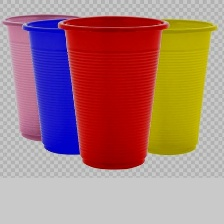glass: (54, 12, 172, 173), (124, 17, 219, 161), (0, 8, 87, 144), (19, 15, 97, 156)
